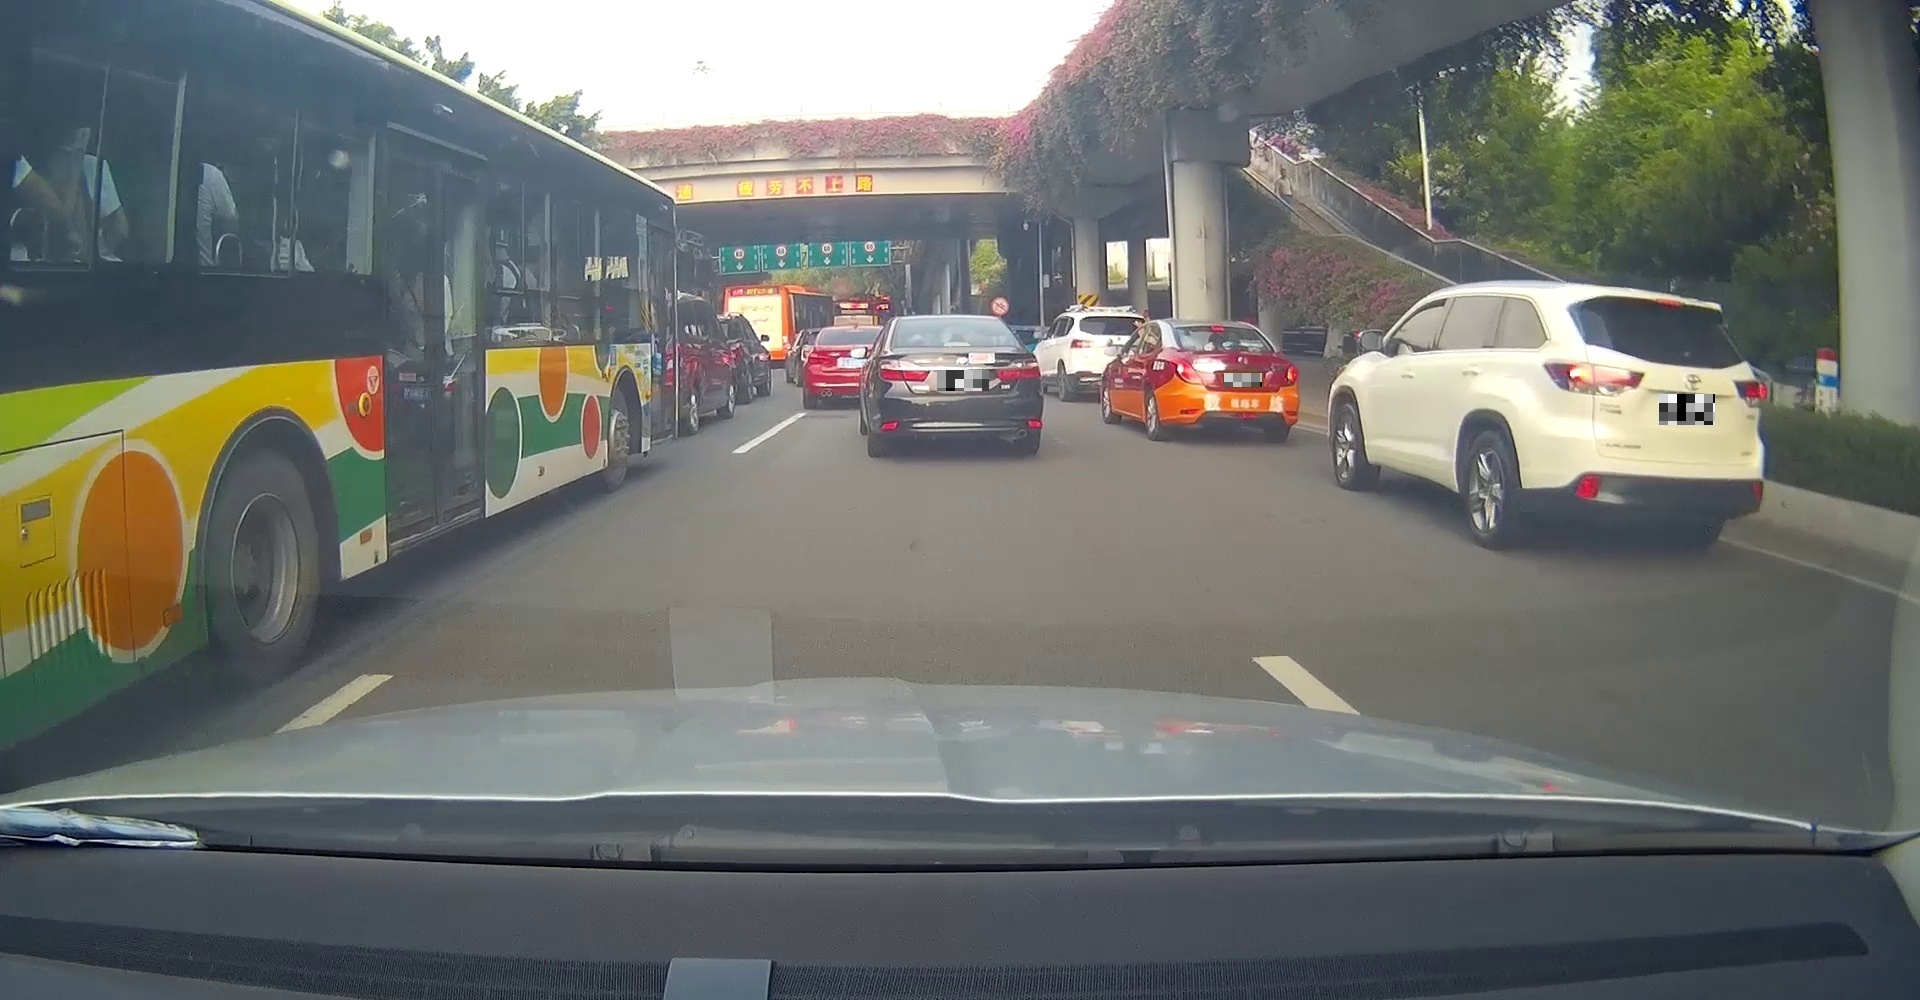L_light: (1543, 360, 1644, 398), (877, 359, 931, 382), (1175, 360, 1222, 386)
R_light: (1732, 377, 1768, 410), (996, 358, 1041, 381), (1265, 363, 1298, 387)
T_light: (1655, 296, 1683, 308), (943, 341, 970, 346), (1211, 326, 1225, 330)
day-brake: (1537, 282, 1771, 557), (1166, 319, 1299, 442)
day-no: (872, 313, 1045, 458)
plate_1: (937, 371, 989, 391)
plate_2: (1224, 373, 1262, 387)
plate_3: (1658, 393, 1716, 425)
